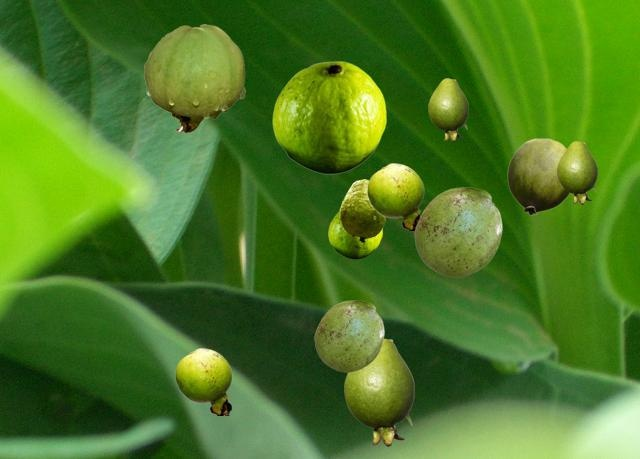guava: (272, 61, 385, 173), (144, 24, 244, 132), (414, 187, 501, 276), (344, 338, 413, 445), (314, 300, 383, 371), (507, 138, 569, 214), (367, 163, 423, 229), (175, 348, 231, 414), (339, 179, 384, 241), (328, 211, 381, 258), (428, 78, 467, 140), (557, 141, 596, 203)
